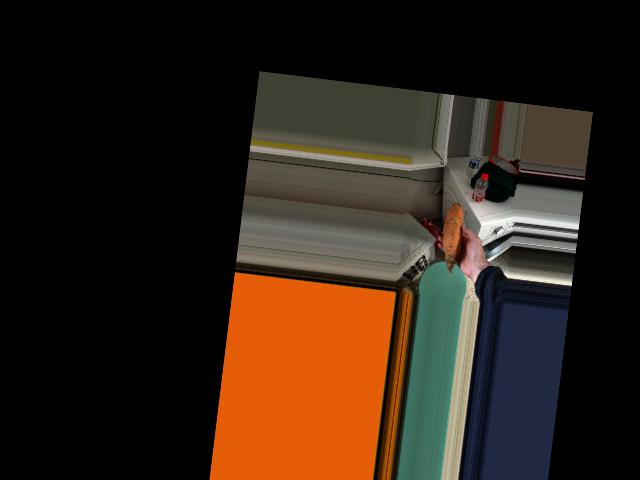sweet_potato: (442, 210, 469, 260)
